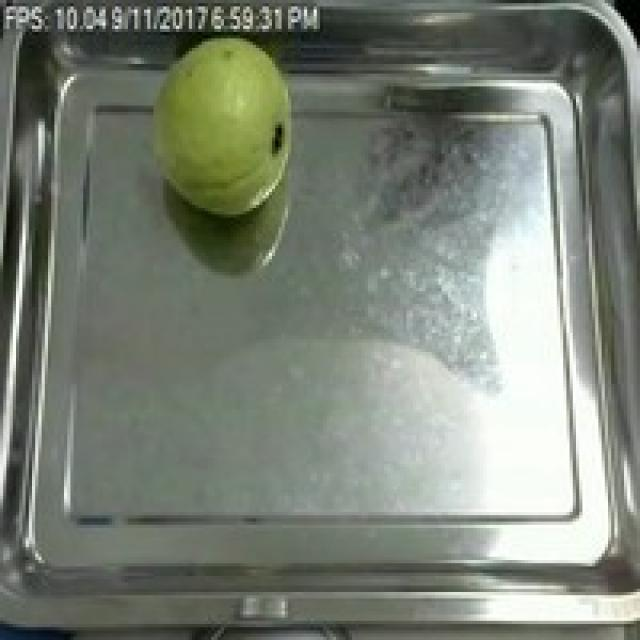Fruit: (141, 35, 301, 224)
